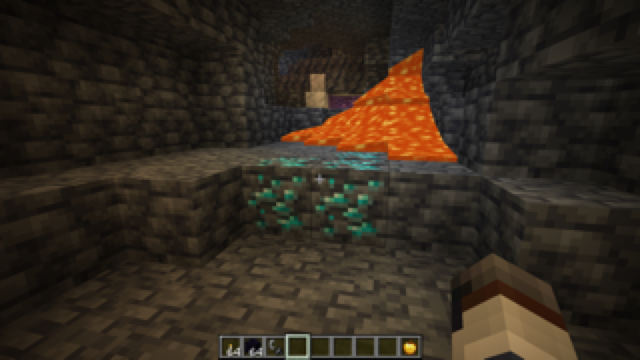diamond: (237, 152, 394, 247)
